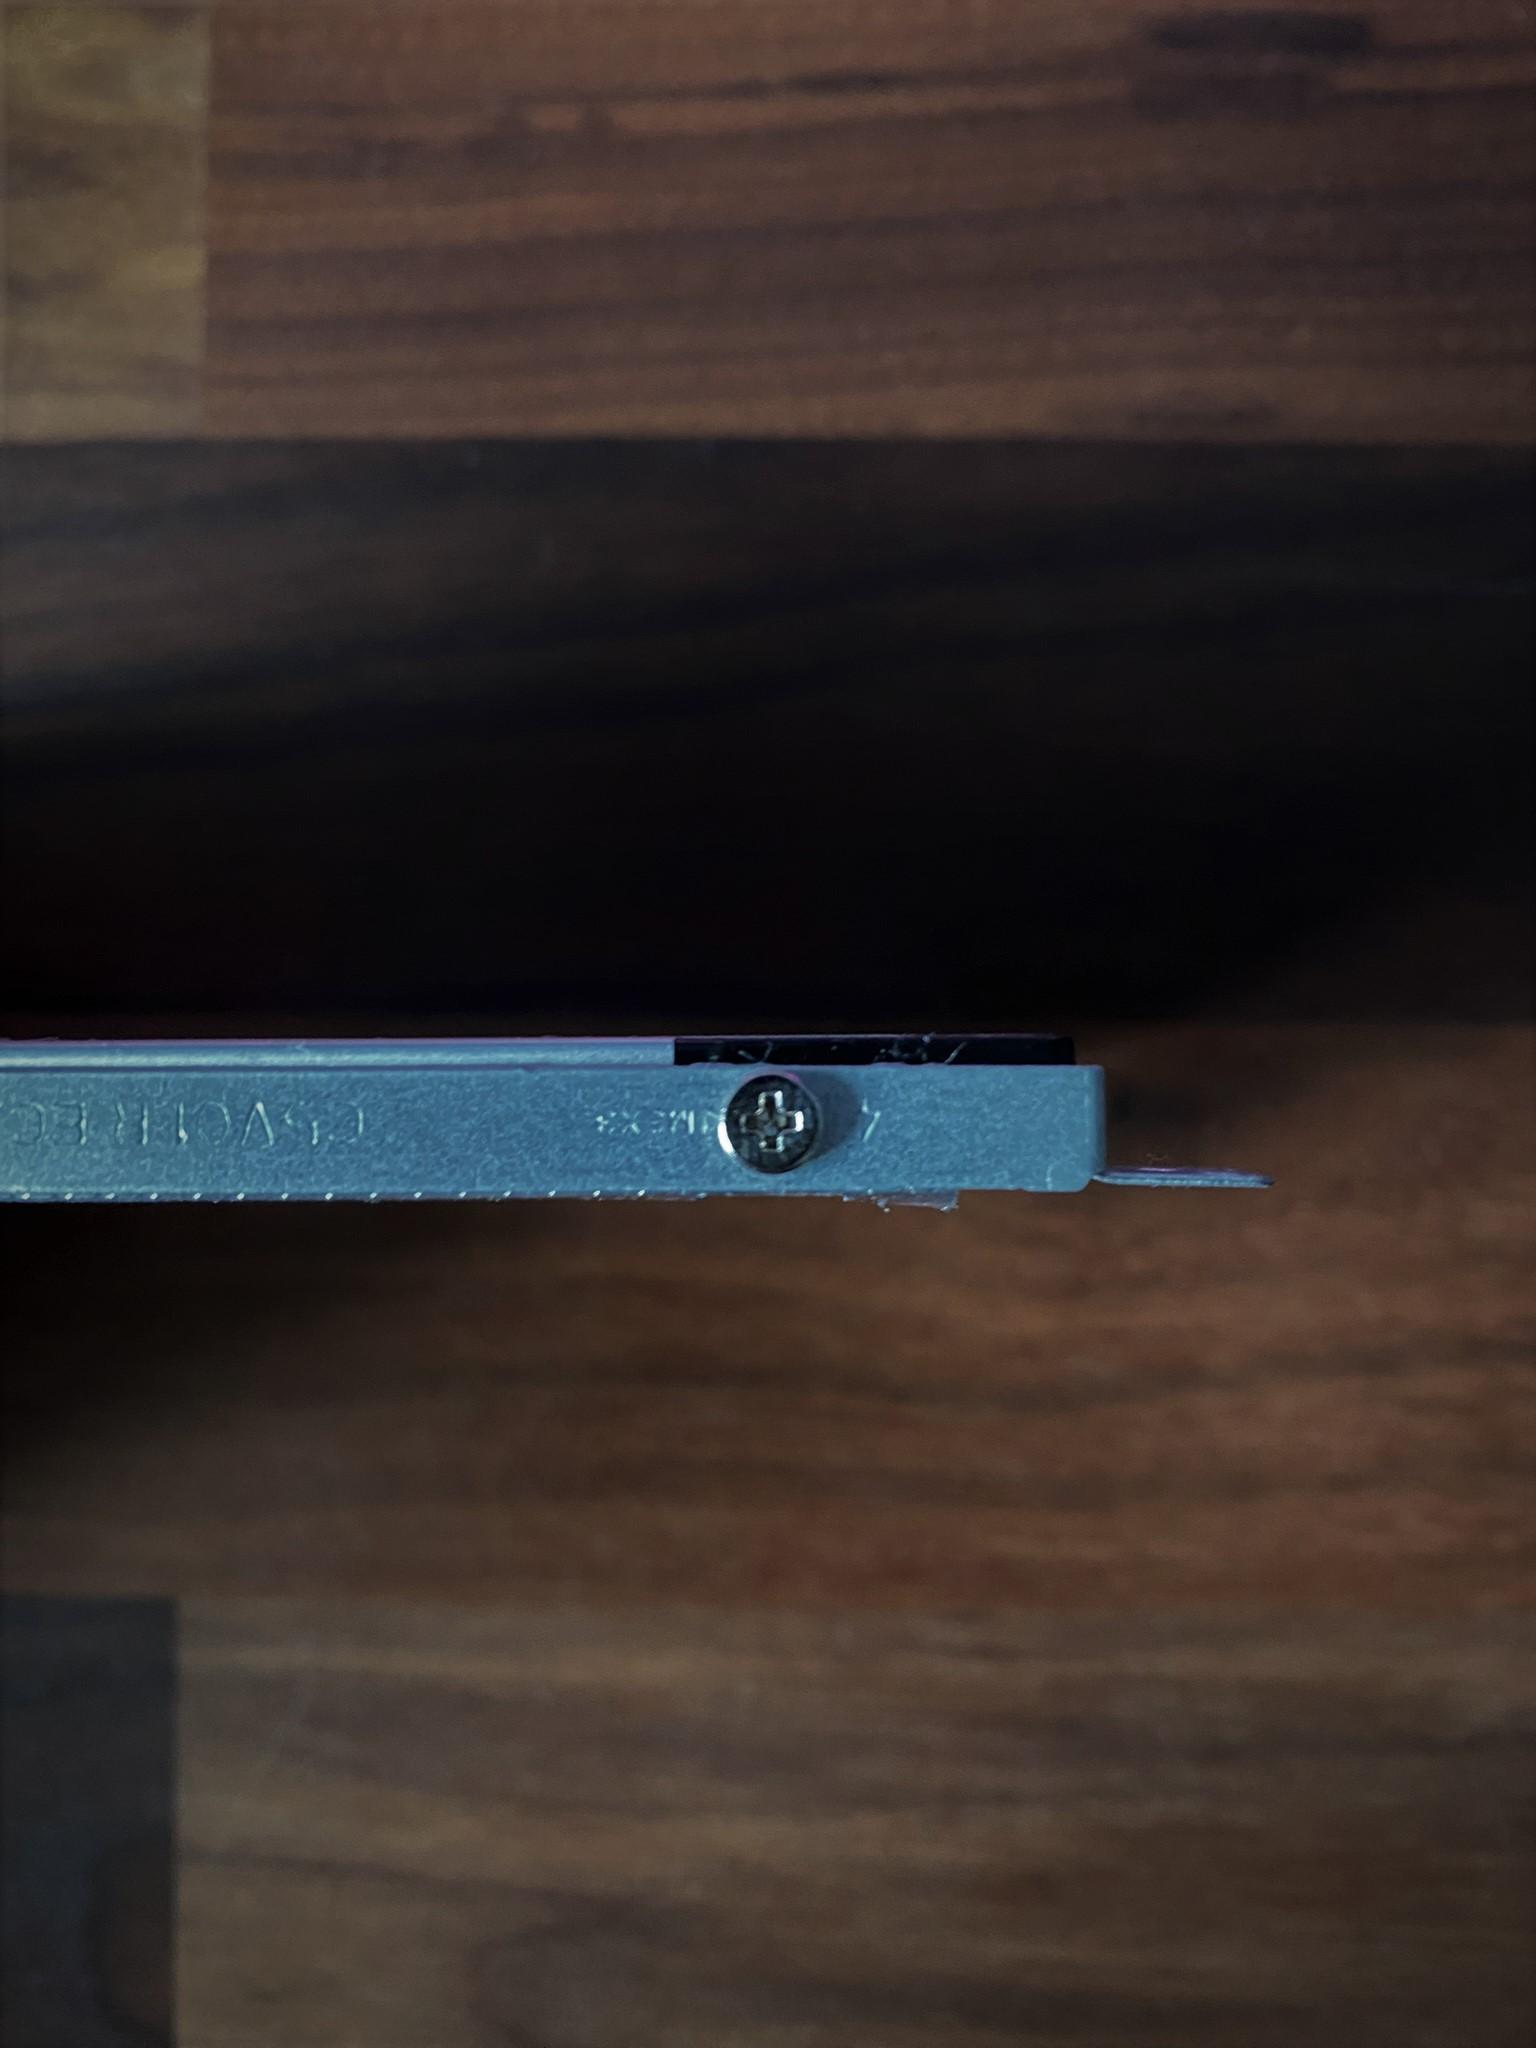PH: (718, 1066, 824, 1182)
